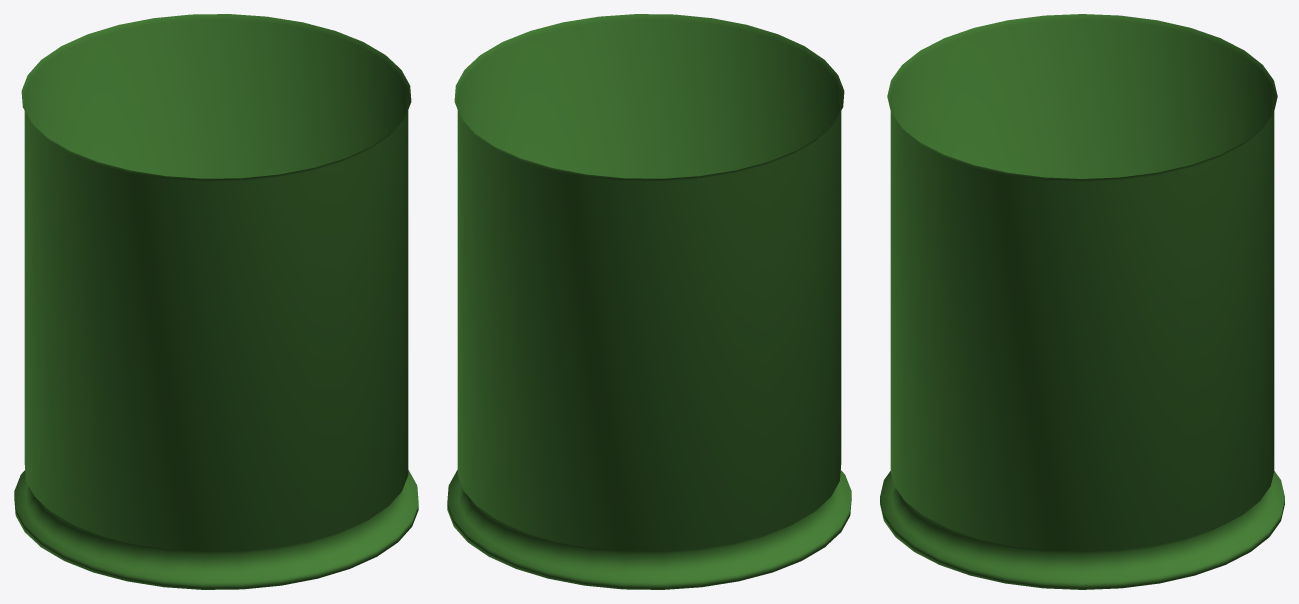
File: 40mm grenade spent.fbx
3 renders of one model, left to right at view 1: azimuth 30°, elevation 25°; view 2: azimuth 150°, elevation 25°; view 3: azimuth 270°, elevation 25°, orthographic.
Parts seen in each view (by area): view 1: Cylinder; view 2: Cylinder; view 3: Cylinder.
Part boxes in pixels (<box>): Cylinder: <box>14,14,418,589</box>; Cylinder: <box>447,14,851,589</box>; Cylinder: <box>880,14,1284,589</box>.
Bounding box in the file's own units: 4.12 × 4.58 × 4.12.
